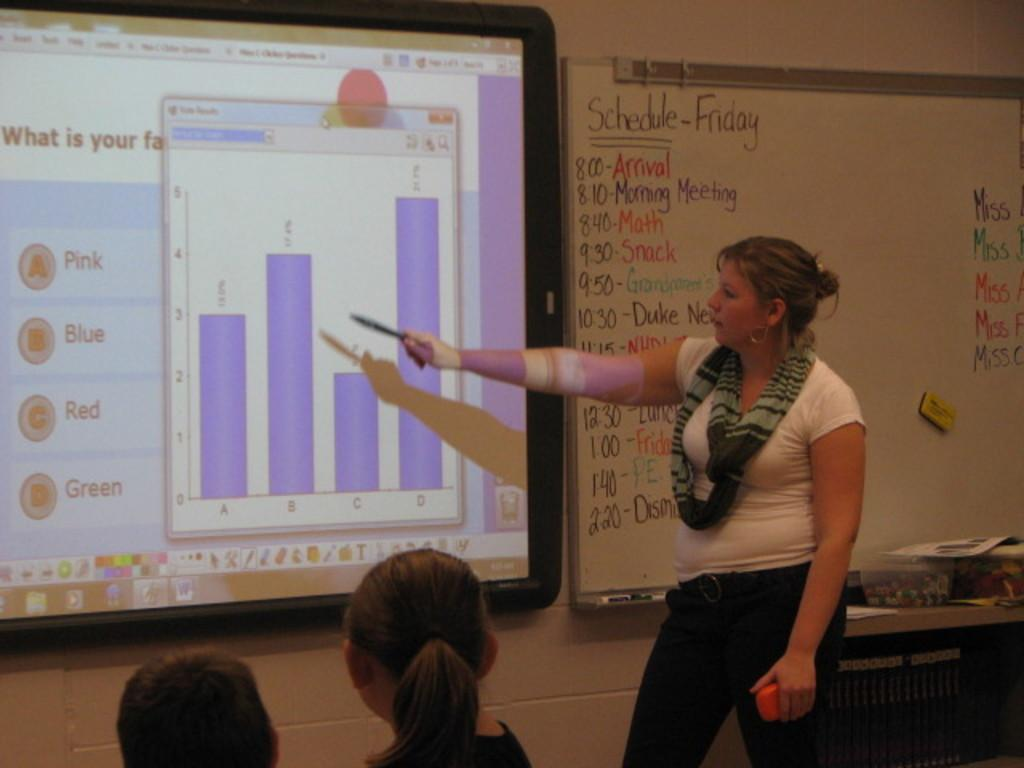Computer-monitor: (2, 2, 568, 638)
